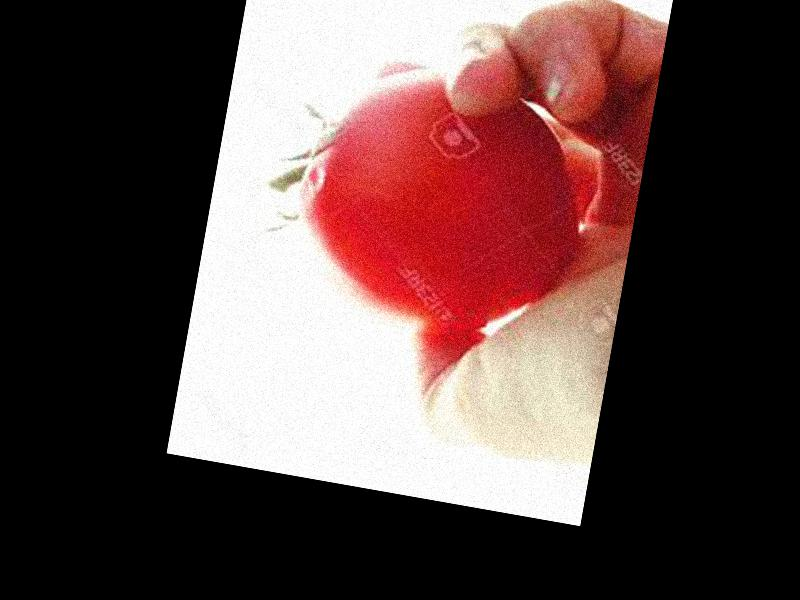Tomato: (277, 48, 597, 351)
